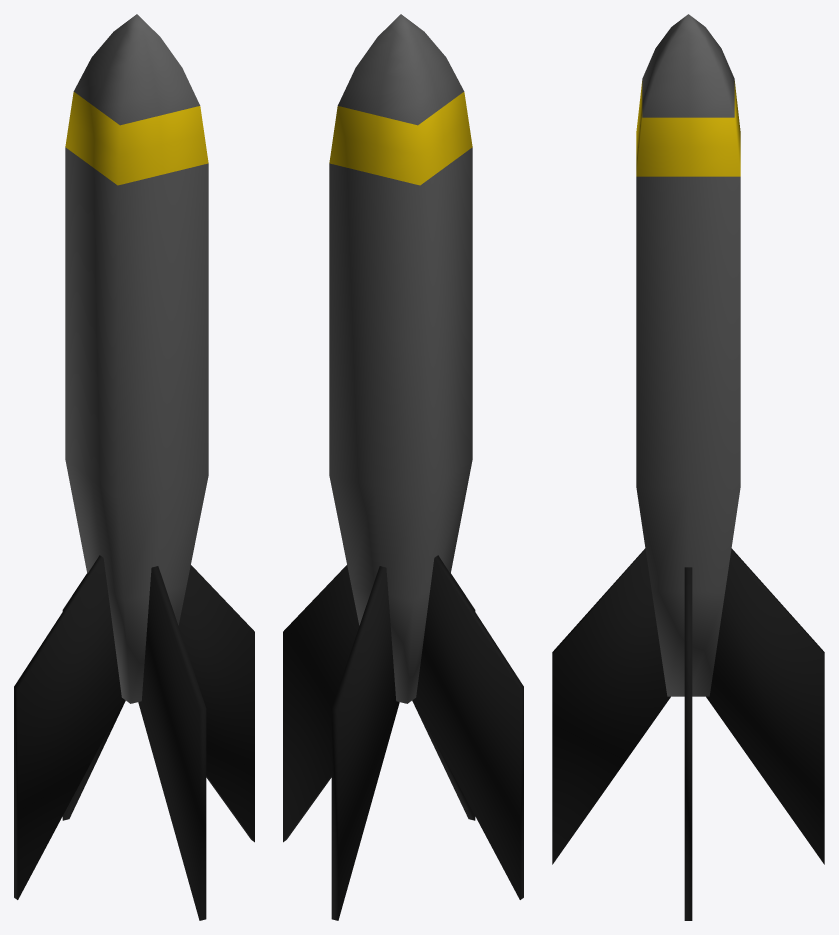
File: Nukes.fbx
The picture shows the model from 3 angles, left to right: view 1: azimuth 30°, elevation 25°; view 2: azimuth 150°, elevation 25°; view 3: azimuth 270°, elevation 25°; orthographic projection.
Visible parts, largest first — view 1: Cube; view 2: Cube; view 3: Cube.
Boxes of the visible parts, <box> form: Cube: <box>14,14,254,920</box>; Cube: <box>283,14,523,920</box>; Cube: <box>552,14,824,920</box>.
Bounding box in the file's own units: 306 × 1057 × 306.
